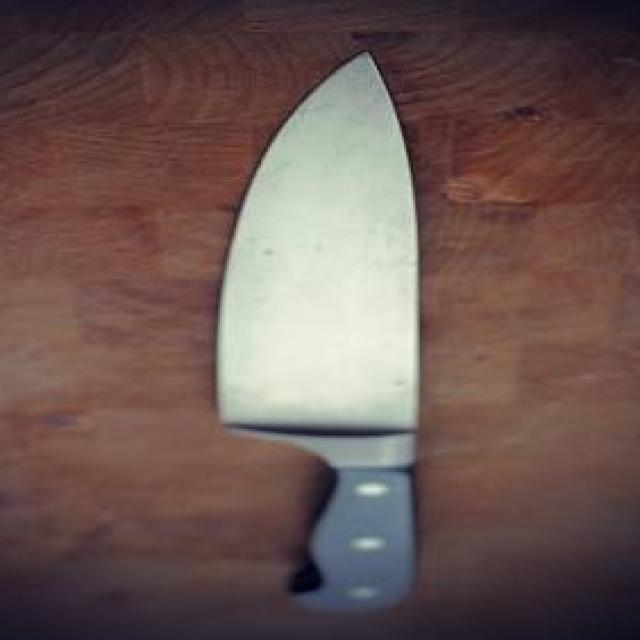knife: (206, 50, 420, 622)
